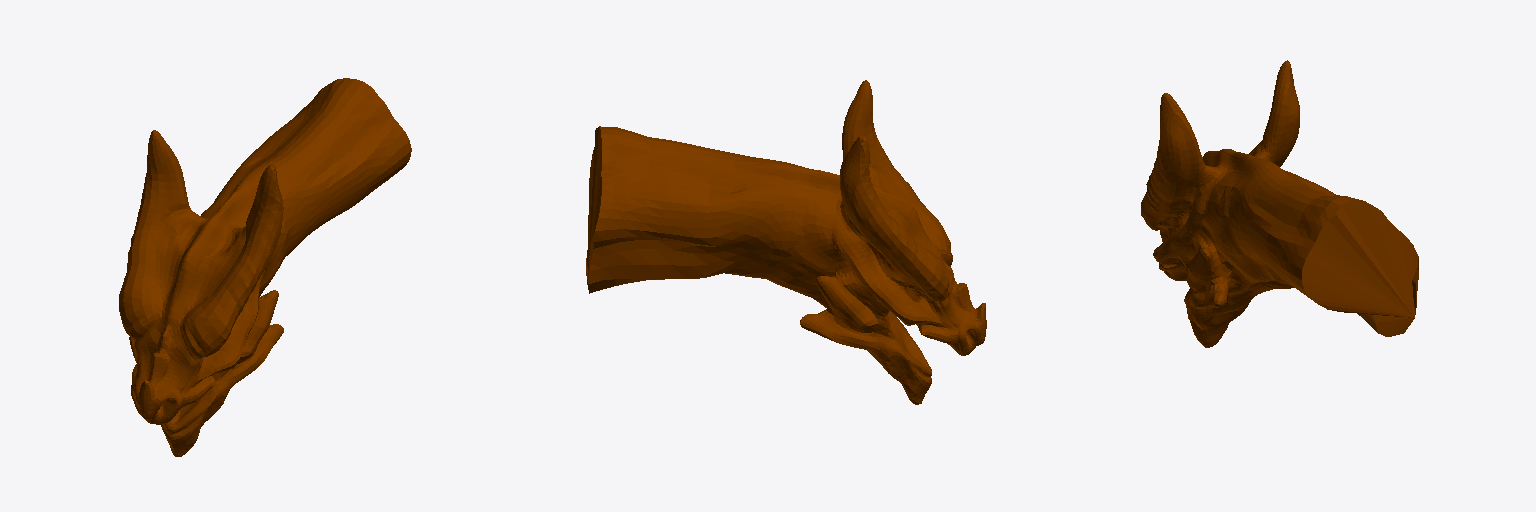
The picture shows the model from 3 angles: view 1: azimuth 30°, elevation 25°; view 2: azimuth 150°, elevation 25°; view 3: azimuth 270°, elevation 25°; orthographic projection.
Visible parts, largest first — view 1: CabezaAbajoIzquierda; view 2: CabezaAbajoIzquierda; view 3: CabezaAbajoIzquierda.
Boxes of the visible parts, <box> form: CabezaAbajoIzquierda: <box>119,78,411,456</box>; CabezaAbajoIzquierda: <box>586,80,986,404</box>; CabezaAbajoIzquierda: <box>1141,60,1418,347</box>.
Bounding box in the file's own units: 2.55 × 2.15 × 1.84.
Materials: 1 (1 with a texture image).